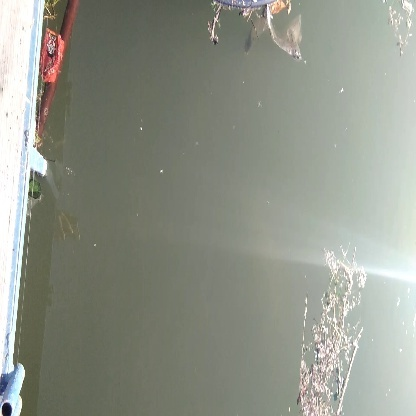milk-box: (40, 23, 69, 89)
